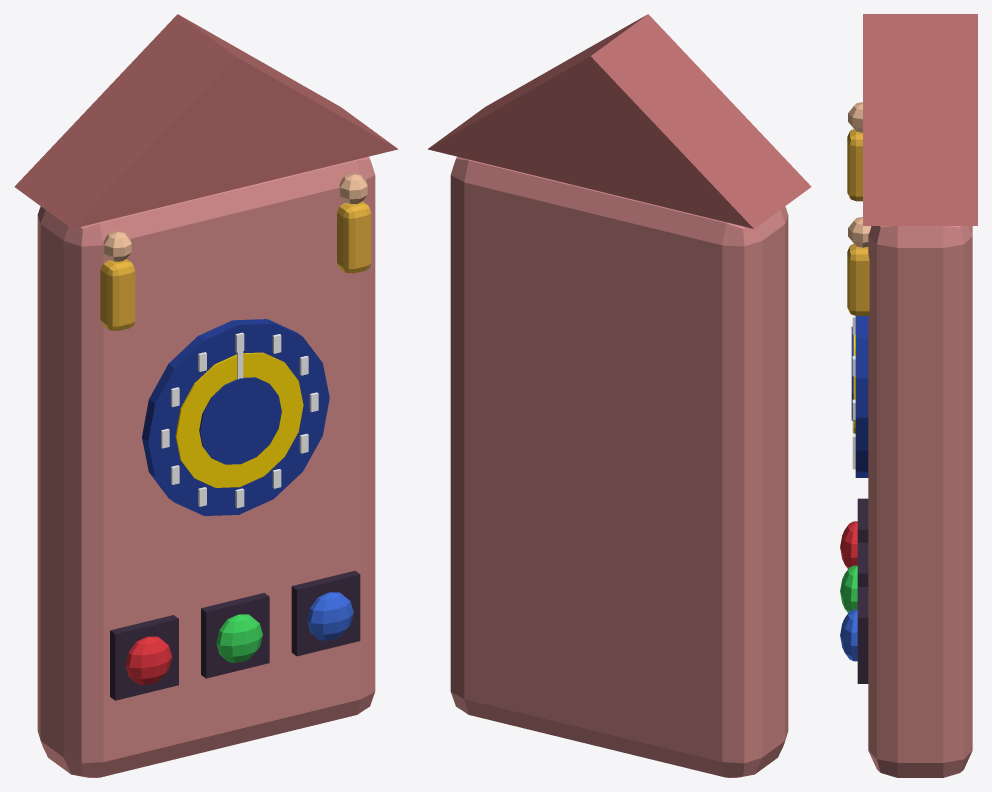
The model's file is clock.glb.
The picture shows the model from 3 angles, left to right: view 1: azimuth 30°, elevation 25°; view 2: azimuth 150°, elevation 25°; view 3: azimuth 270°, elevation 25°; orthographic projection.
Parts seen in each view (by area): view 1: p_rbox.085, p_gable.004, p_cyl.038, p_cyl.039, p_cyl.040, p_box.848, p_box.847, p_box.846, p_rbox.086, p_rbox.087, lampB, lampG (+3 smaller); view 2: p_rbox.085, p_gable.004; view 3: p_rbox.085, p_gable.004, p_cyl.038, p_rbox.087, p_box.848, p_rbox.086, lampB, lampG, lampR, p_box.846, p_box.847, p_sph.301 (+1 smaller).
Part boxes in pixels (x1,y1,x2,y2): p_rbox.085: [37, 156, 375, 777]; p_gable.004: [14, 14, 398, 228]; p_cyl.038: [142, 319, 329, 515]; p_cyl.039: [175, 352, 303, 487]; p_cyl.040: [199, 377, 281, 464]; p_box.848: [291, 570, 360, 656]; p_box.847: [201, 593, 269, 678]; p_box.846: [110, 615, 178, 700]; p_rbox.086: [100, 259, 135, 331]; p_rbox.087: [337, 201, 371, 273]; lampB: [307, 592, 353, 640]; lampG: [216, 614, 262, 662]; p_rbox.085: [450, 156, 788, 777]; p_gable.004: [427, 14, 811, 228]; p_rbox.085: [868, 226, 972, 777]; p_gable.004: [863, 14, 977, 225]; p_cyl.038: [855, 316, 868, 477]; p_rbox.087: [847, 244, 869, 315]; p_box.848: [857, 587, 868, 683]; p_rbox.086: [847, 129, 862, 201]; lampB: [840, 609, 857, 661]; lampG: [840, 565, 857, 612]; lampR: [840, 521, 857, 568]; p_box.846: [857, 498, 868, 542]; p_box.847: [857, 542, 868, 586]; p_sph.301: [848, 217, 871, 247].
Bounding box in the file's own units: 3.6 × 7.4 × 1.32.
